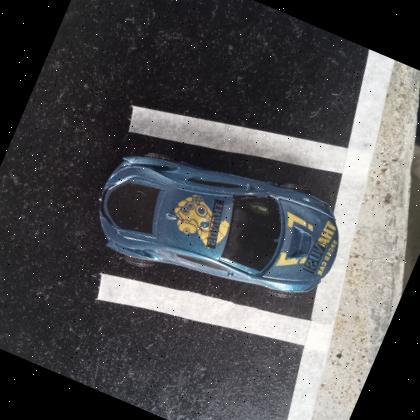Car: (99, 150, 339, 293)
